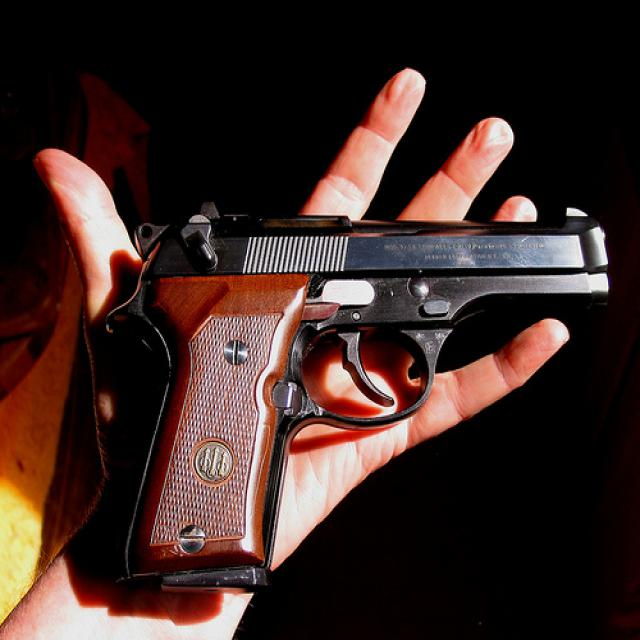handgun: (109, 199, 608, 595)
